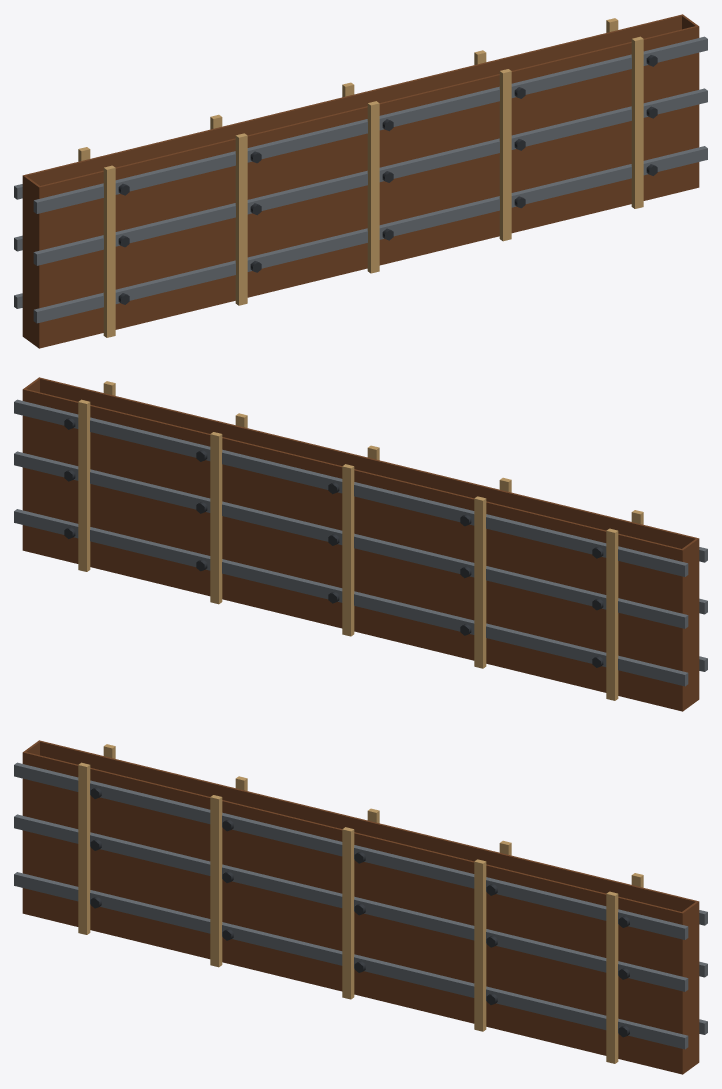
File: gs-formwork.glb
3 views of the same model, one above another, from view 1: azimuth 30°, elevation 25°; view 2: azimuth 150°, elevation 25°; view 3: azimuth 330°, elevation 25° (orthographic).
Parts seen in each view (by area): view 1: gs-formwork; view 2: gs-formwork; view 3: gs-formwork.
Boxes of the visible parts, bbox=[...] form: gs-formwork: bbox=[14, 14, 707, 348]; gs-formwork: bbox=[14, 377, 707, 711]; gs-formwork: bbox=[14, 740, 707, 1074].
Bounding box in the file's own units: 6.1 × 1.46 × 0.48.
